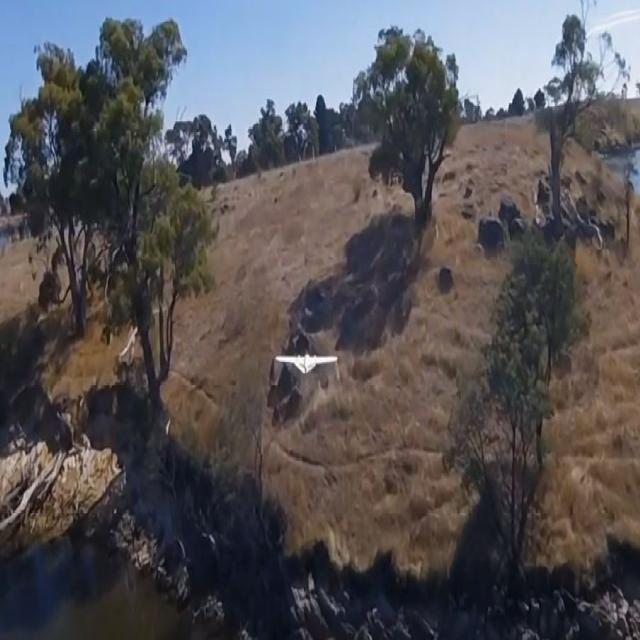iha: (275, 352, 338, 376)
